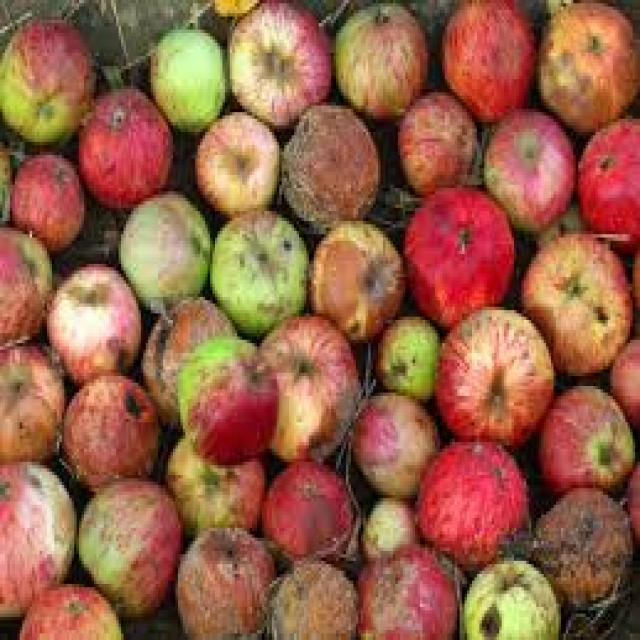organic waste: (514, 224, 630, 380), (432, 304, 551, 442), (72, 468, 178, 614), (254, 307, 356, 455), (403, 185, 511, 323), (413, 439, 526, 567), (222, 0, 329, 129), (534, 0, 638, 132), (202, 208, 306, 336), (56, 369, 160, 492), (144, 293, 238, 429), (279, 102, 378, 228), (0, 10, 94, 142), (529, 482, 630, 604), (178, 333, 272, 462), (77, 82, 173, 208), (479, 105, 574, 231), (306, 214, 401, 334), (175, 521, 272, 637), (257, 455, 353, 571), (116, 185, 205, 310), (536, 379, 638, 488), (437, 0, 531, 115), (331, 0, 425, 112), (0, 458, 67, 610), (356, 541, 462, 637), (163, 432, 260, 535), (192, 106, 276, 211), (576, 112, 638, 248), (148, 26, 222, 136), (351, 392, 432, 492), (395, 86, 472, 188), (0, 336, 64, 458), (267, 554, 361, 637), (8, 152, 86, 247), (460, 558, 556, 634), (20, 577, 121, 637), (371, 306, 437, 392), (0, 221, 47, 340), (356, 492, 420, 564), (606, 330, 638, 429), (622, 455, 638, 541), (625, 238, 638, 320), (0, 131, 7, 224), (208, 0, 257, 13)
